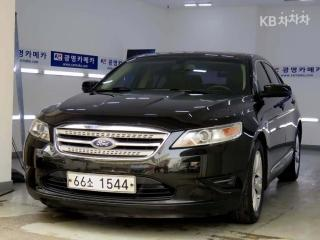1: (99, 178, 105, 190)
4: (122, 179, 130, 190), (114, 179, 122, 189)
5: (106, 177, 114, 191)
6: (72, 175, 80, 187), (80, 176, 87, 188)
plate: (65, 170, 139, 200)
소: (86, 177, 94, 188)
